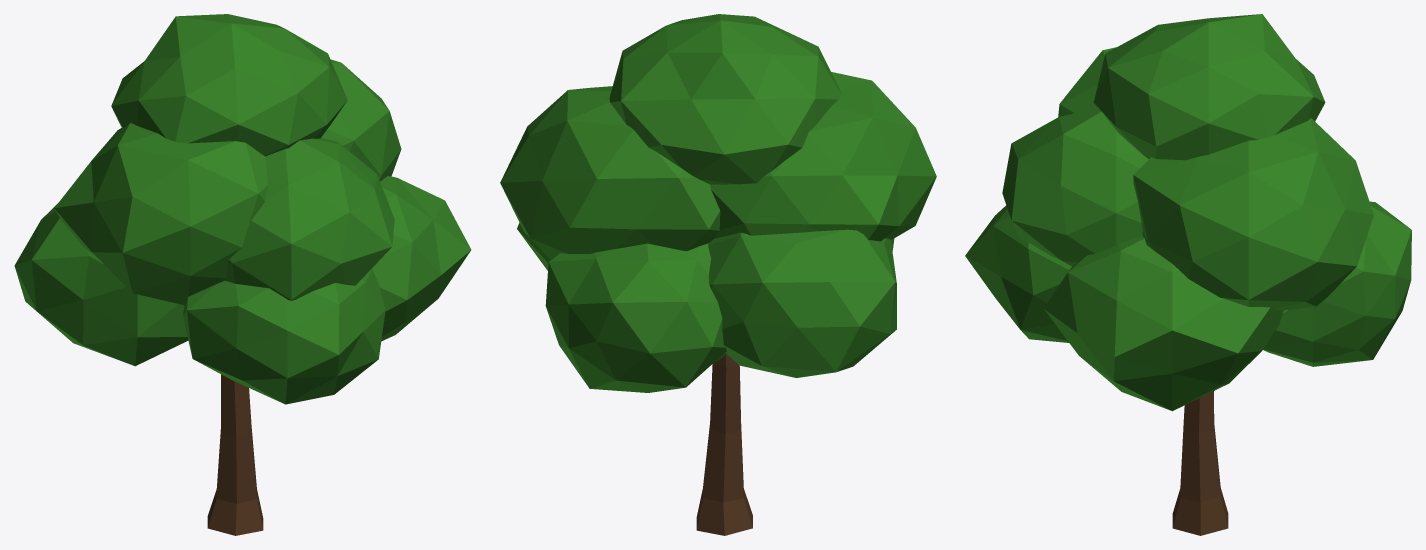
Rendered from tree_broadleaf.glb.
3 views of the same model, side by side, from view 1: azimuth 30°, elevation 25°; view 2: azimuth 150°, elevation 25°; view 3: azimuth 270°, elevation 25° (orthographic).
Visible parts, largest first — view 1: tree_broadleaf_mesh; view 2: tree_broadleaf_mesh; view 3: tree_broadleaf_mesh.
Part boxes in pixels (box(x1,y1,x2,y2)): tree_broadleaf_mesh: box(14, 14, 471, 535); tree_broadleaf_mesh: box(500, 14, 936, 535); tree_broadleaf_mesh: box(965, 14, 1411, 535).
Size of the model in its own units: 5.5 by 6.87 by 5.57.
